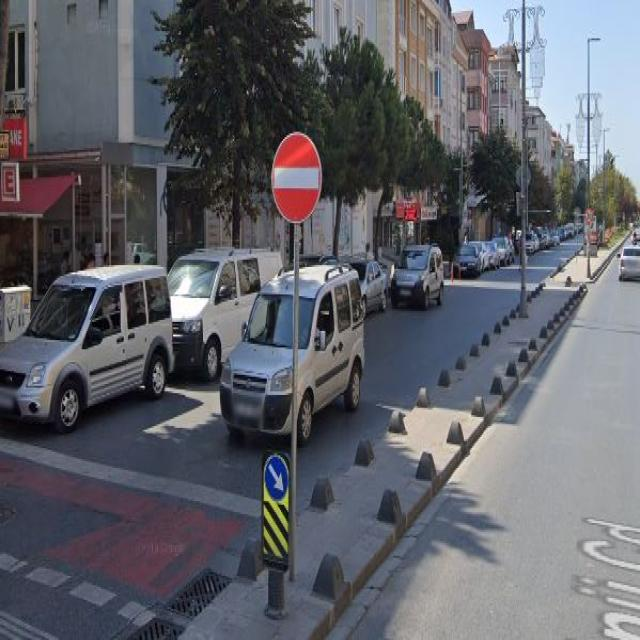girisyok: (272, 132, 322, 223)
